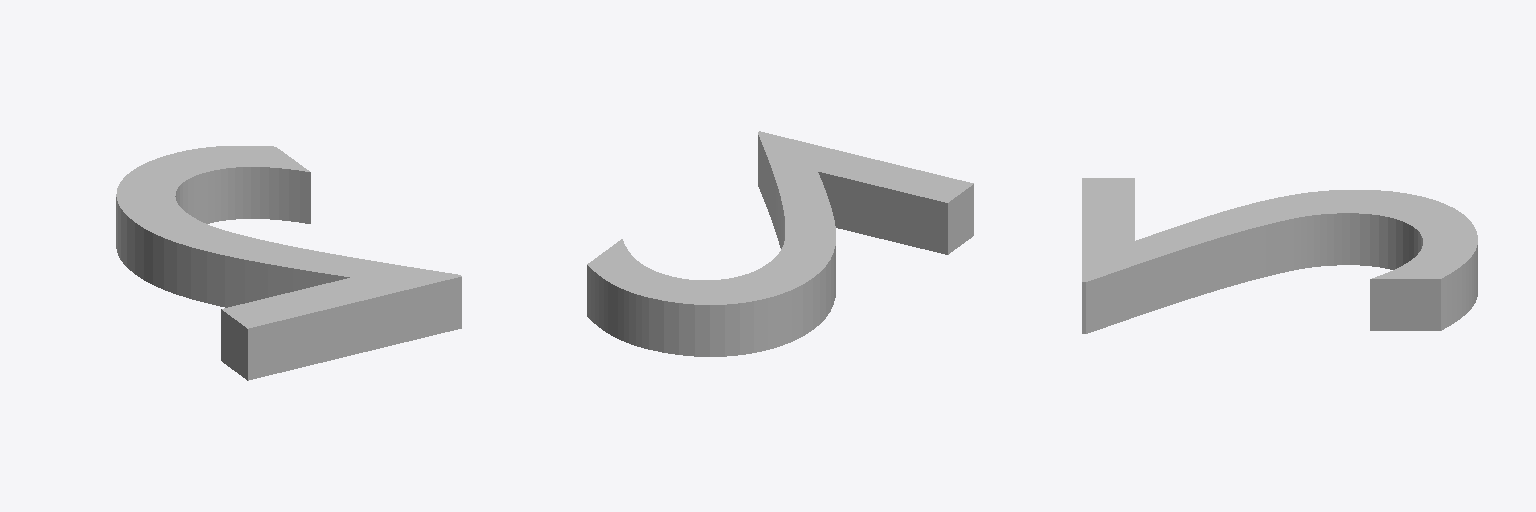
The model's file is score_2.obj.
3 renders of one model, left to right at view 1: azimuth 30°, elevation 25°; view 2: azimuth 150°, elevation 25°; view 3: azimuth 270°, elevation 25°, orthographic.
Visible parts, largest first — view 1: 0_Text.002; view 2: 0_Text.002; view 3: 0_Text.002.
Part boxes in pixels (x1,y1,x2,y2): 0_Text.002: (116,146,461,380); 0_Text.002: (587,131,973,356); 0_Text.002: (1082,178,1477,333).
Bounding box in the file's own units: 0.432 × 0.1 × 0.691.